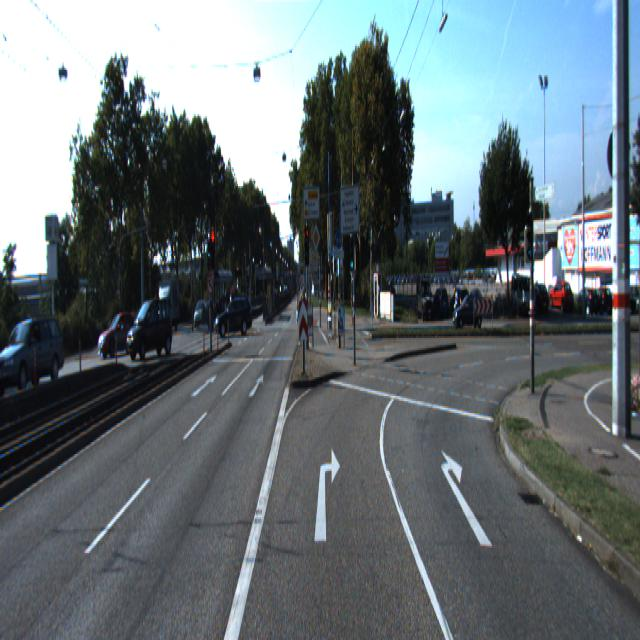Car: (0, 313, 70, 402), (126, 298, 173, 364), (97, 312, 144, 362), (213, 297, 254, 341), (451, 292, 484, 329)
